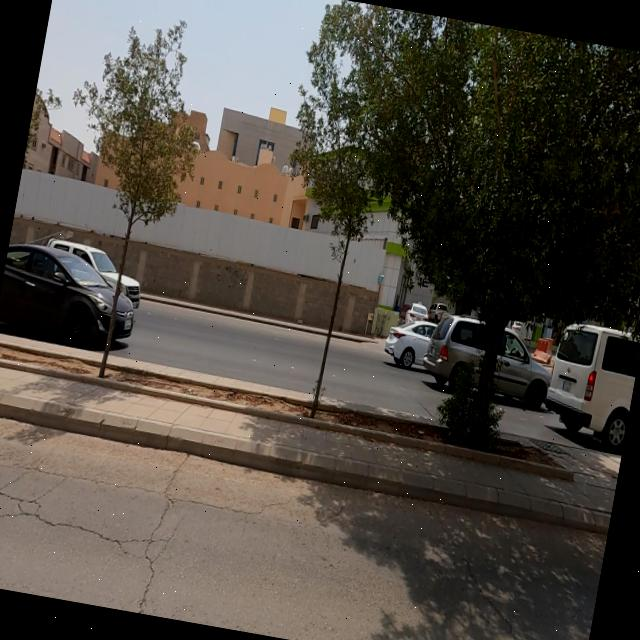Graffiti: (216, 262, 251, 291)
